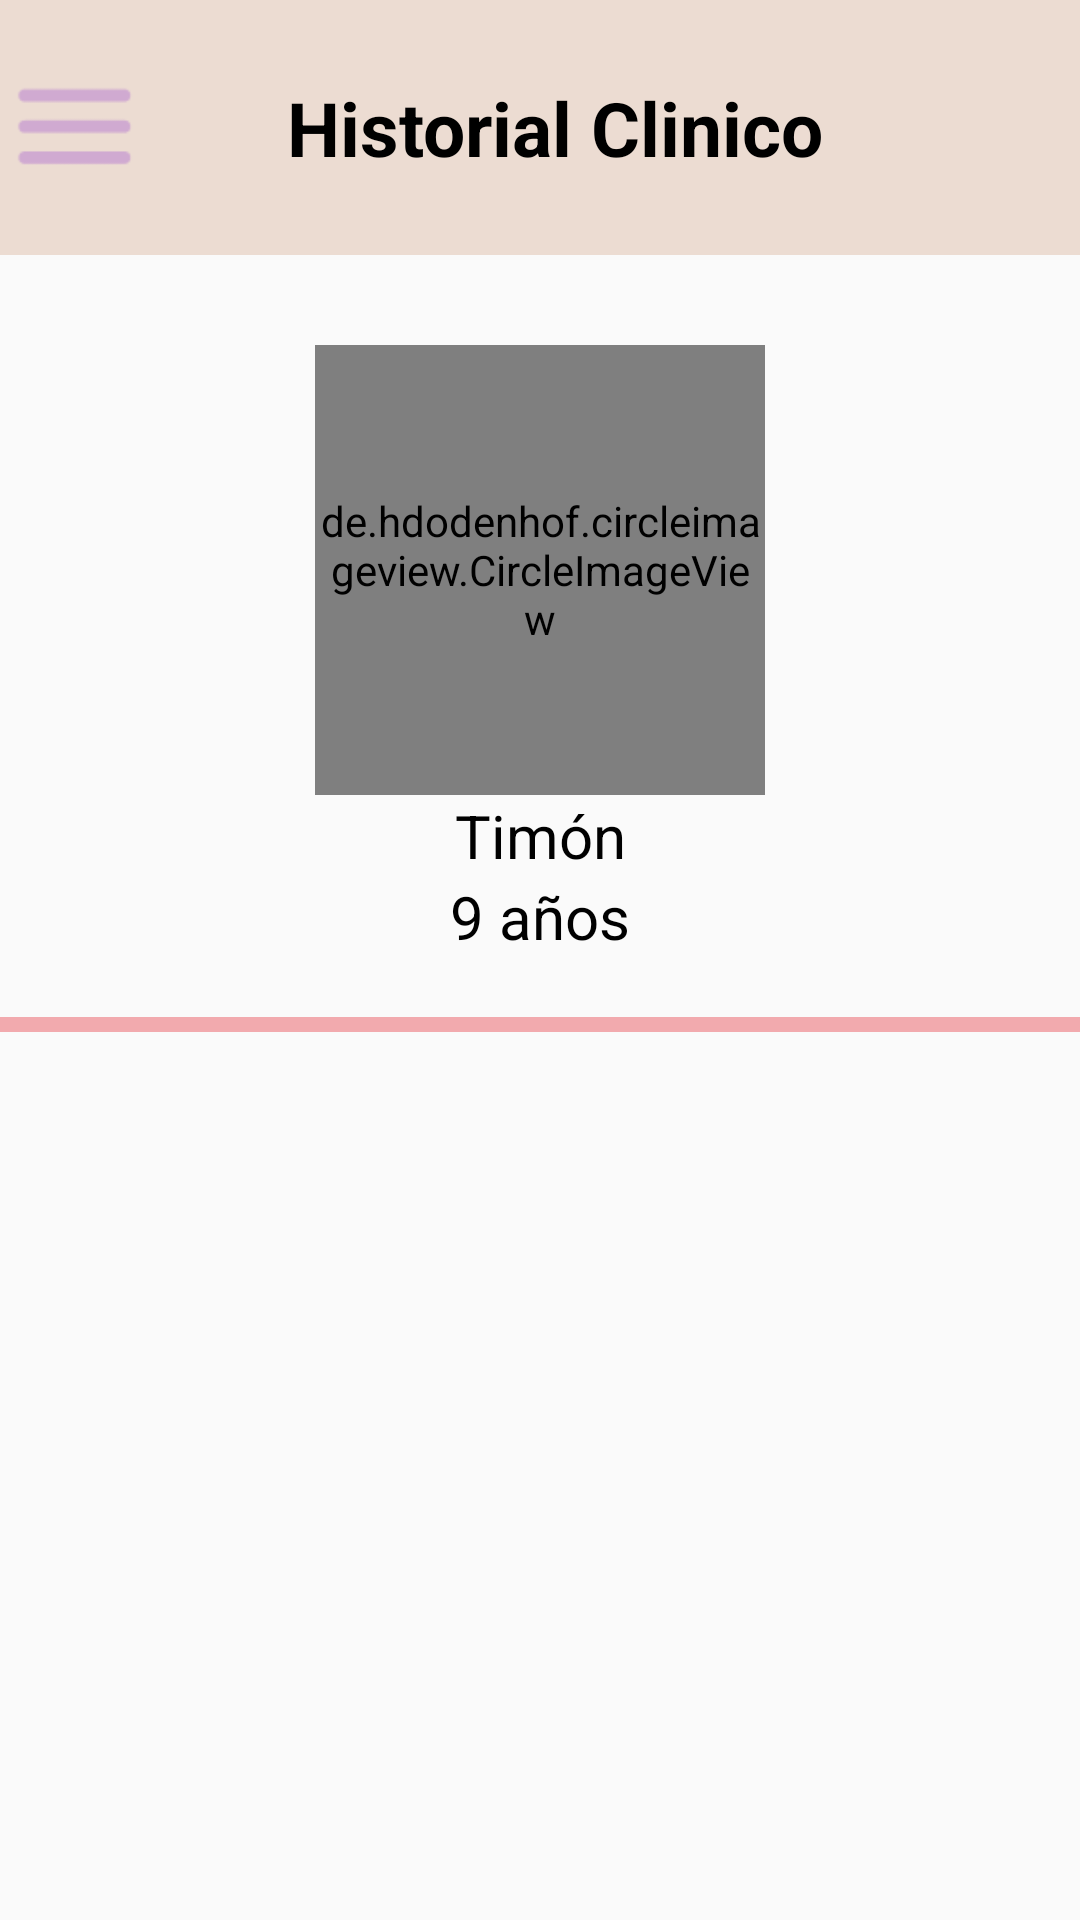

Point at icon controls on the screen. Image size 1080*1920, points as (x,y).
menu: (74,126)
